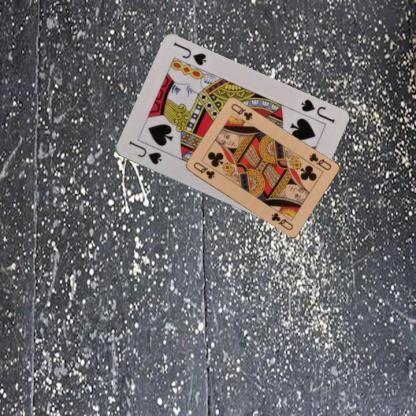Js: (298, 96, 336, 125), (125, 138, 163, 166)
Qc: (306, 150, 332, 172), (190, 160, 216, 180)
